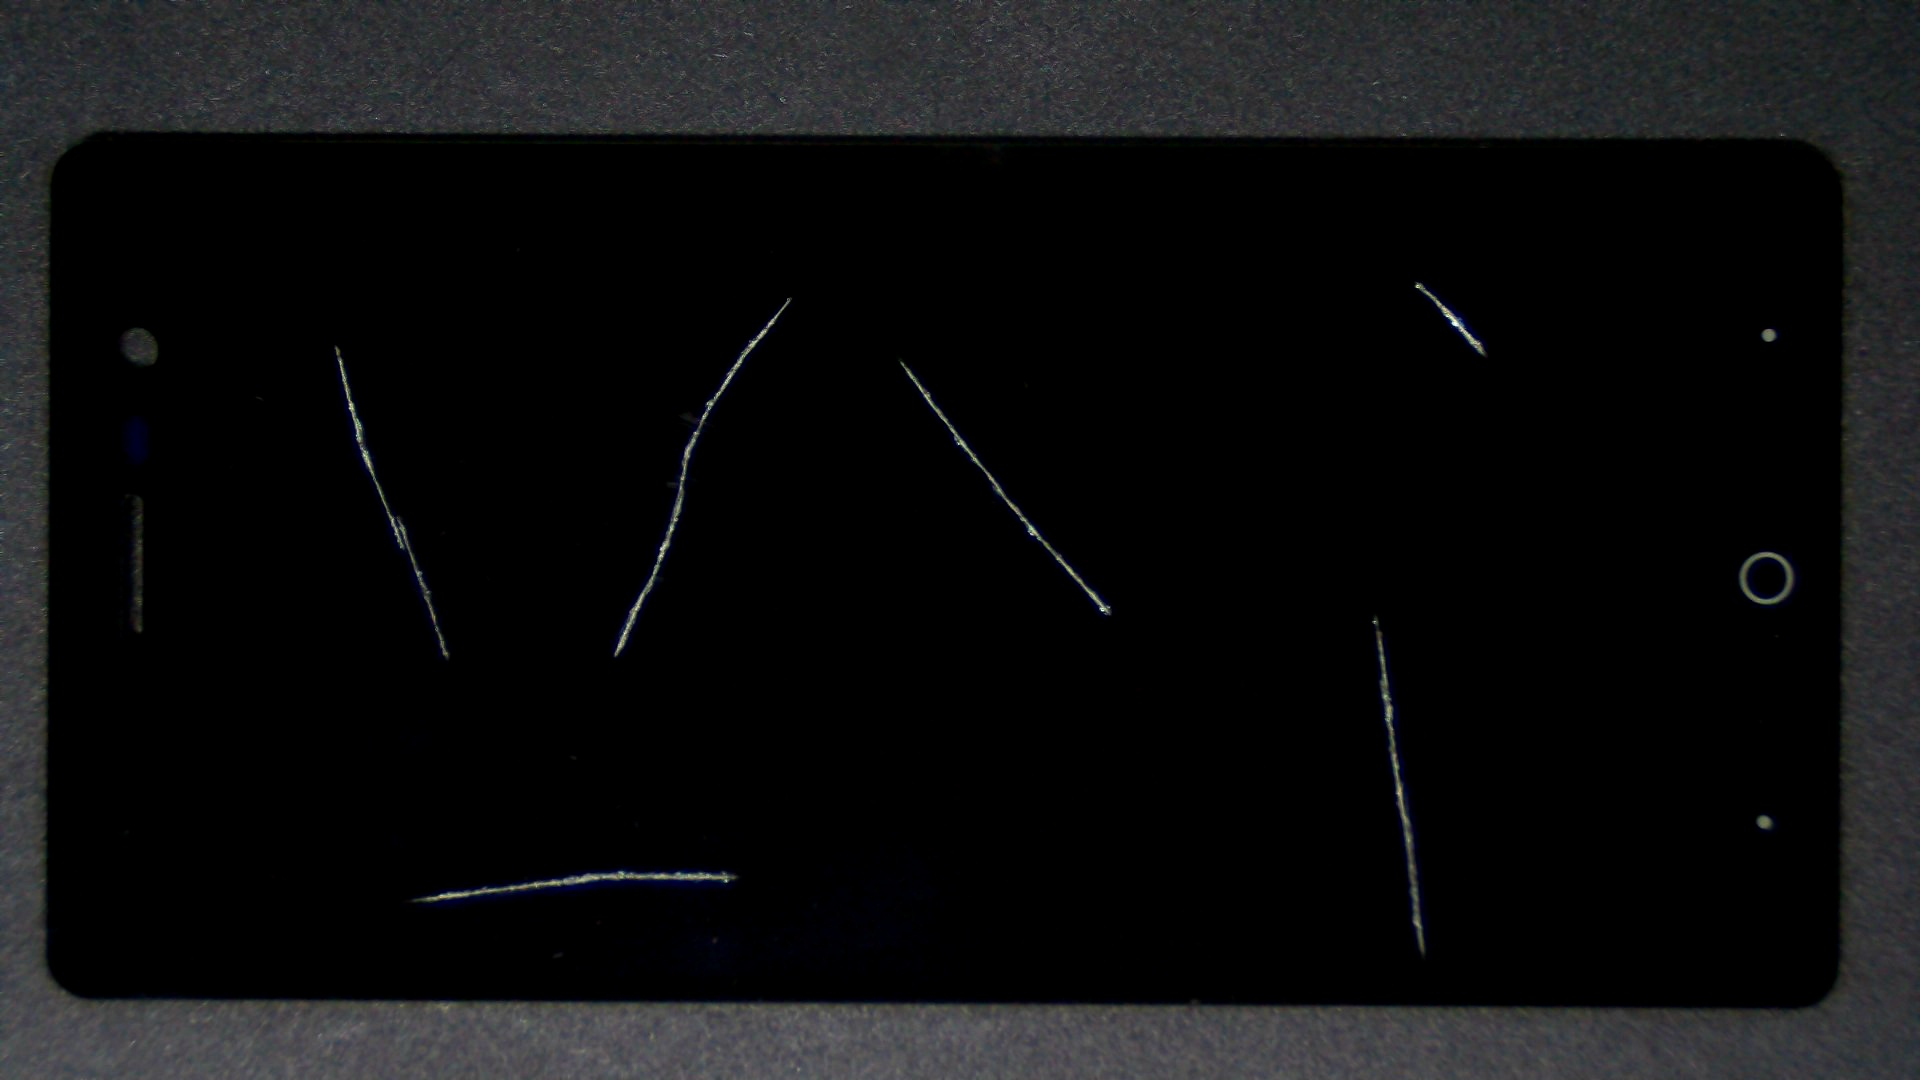oil: (688, 306, 1920, 920), (310, 434, 927, 1080), (708, 140, 1920, 422), (450, 178, 1348, 535), (397, 146, 1185, 443), (169, 171, 504, 516)
